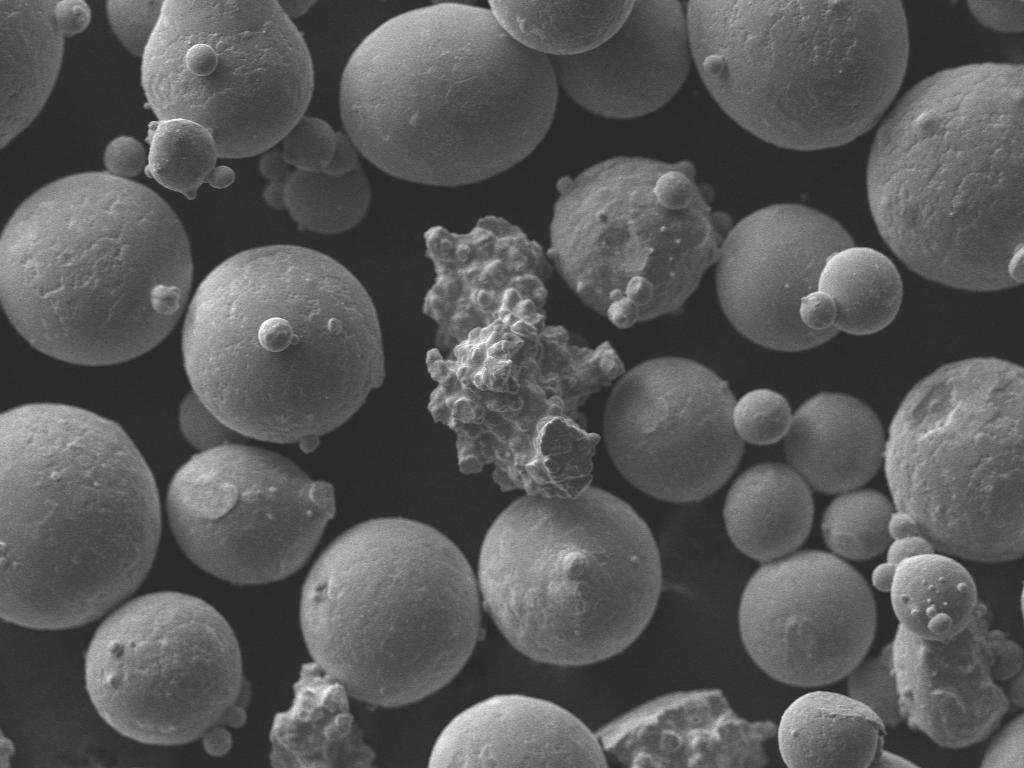Powder: (424, 218, 624, 498), (0, 136, 194, 366), (872, 358, 1024, 643), (180, 246, 384, 453), (340, 4, 558, 186), (0, 404, 162, 629), (866, 62, 1024, 289), (300, 518, 480, 707), (142, 0, 314, 197), (688, 0, 908, 150), (478, 488, 662, 666), (548, 156, 732, 328), (86, 592, 250, 758), (604, 358, 792, 502), (848, 604, 1024, 748), (166, 444, 336, 585), (716, 204, 854, 351), (738, 550, 878, 687), (552, 0, 690, 118), (596, 690, 776, 767), (0, 0, 92, 147), (428, 694, 606, 768), (260, 116, 370, 234), (270, 664, 376, 768), (778, 692, 916, 768), (784, 392, 884, 493), (724, 462, 814, 562), (800, 248, 900, 334), (488, 1, 634, 55), (820, 488, 892, 561), (106, 0, 164, 57), (980, 712, 1024, 768), (966, 0, 1024, 34)
